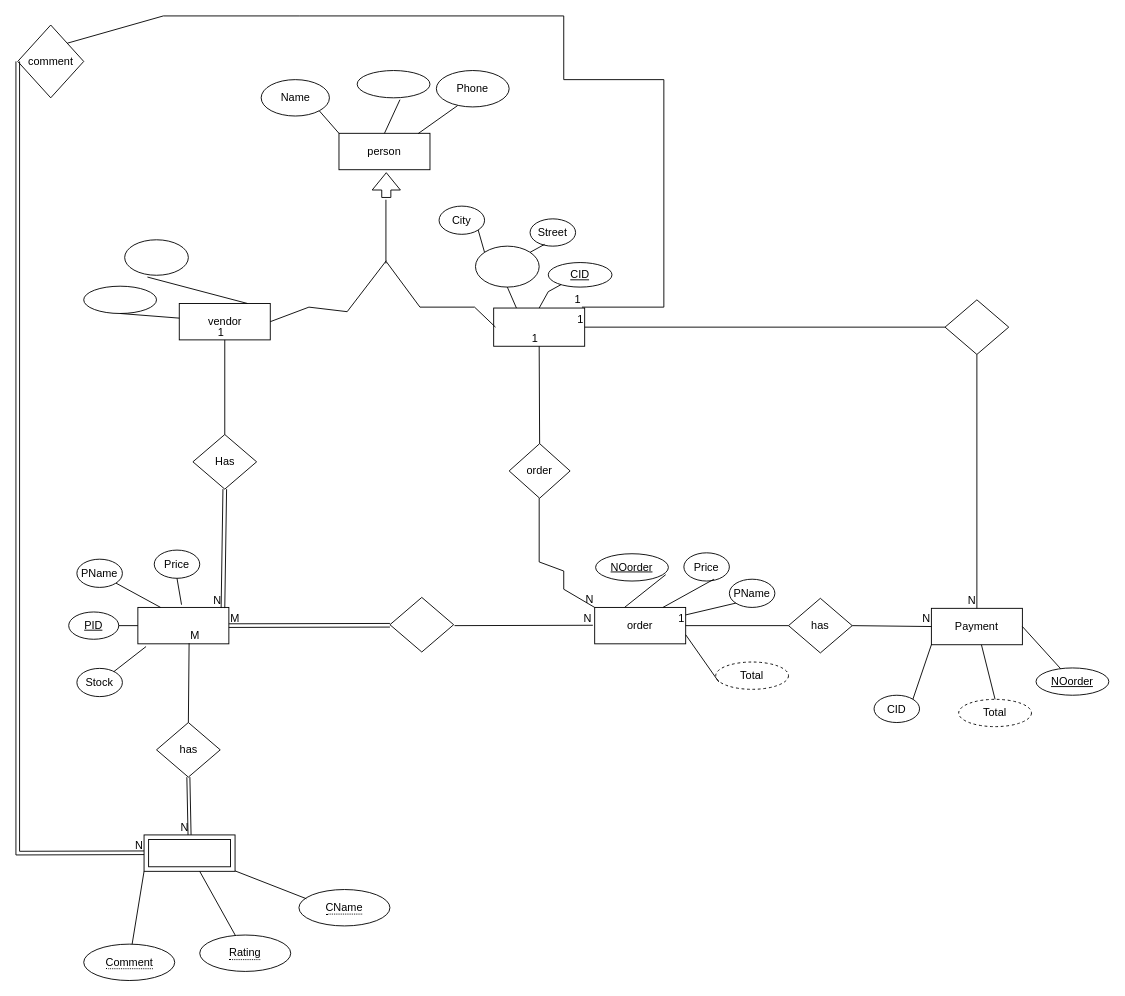
This 1125x996 diagram has some shape labels left out. Each missing label, with the box of its shape:
Address: (475, 245, 539, 287)
Customer: (493, 307, 585, 346)
Email: (356, 70, 430, 98)
Include: (389, 597, 454, 652)
pay: (944, 299, 1009, 354)
product: (137, 607, 229, 644)
ProductLIst: (124, 239, 188, 275)
Review: (143, 834, 235, 871)
VID: (83, 285, 157, 313)
